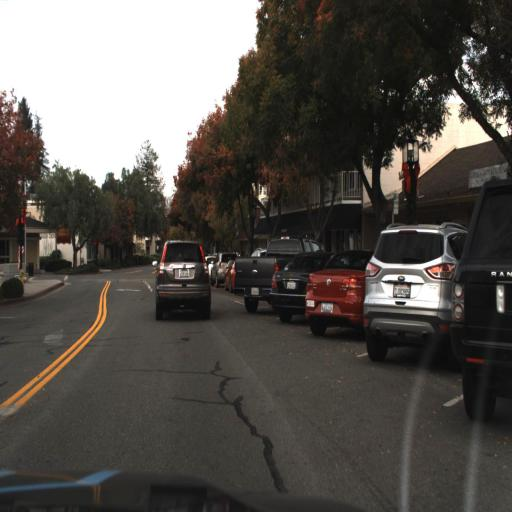car: (360, 212, 462, 378), (459, 179, 512, 424), (303, 239, 369, 340), (150, 233, 218, 323), (231, 232, 304, 309), (268, 250, 311, 322)
